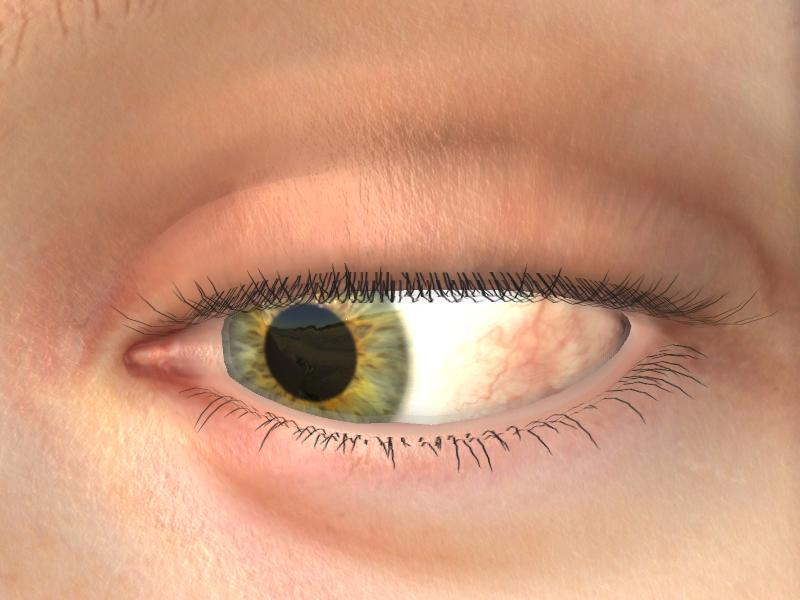eye: (220, 288, 414, 421)
